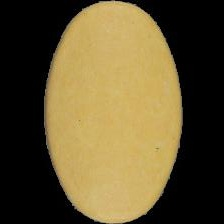61919-599: (0, 0, 224, 224)
